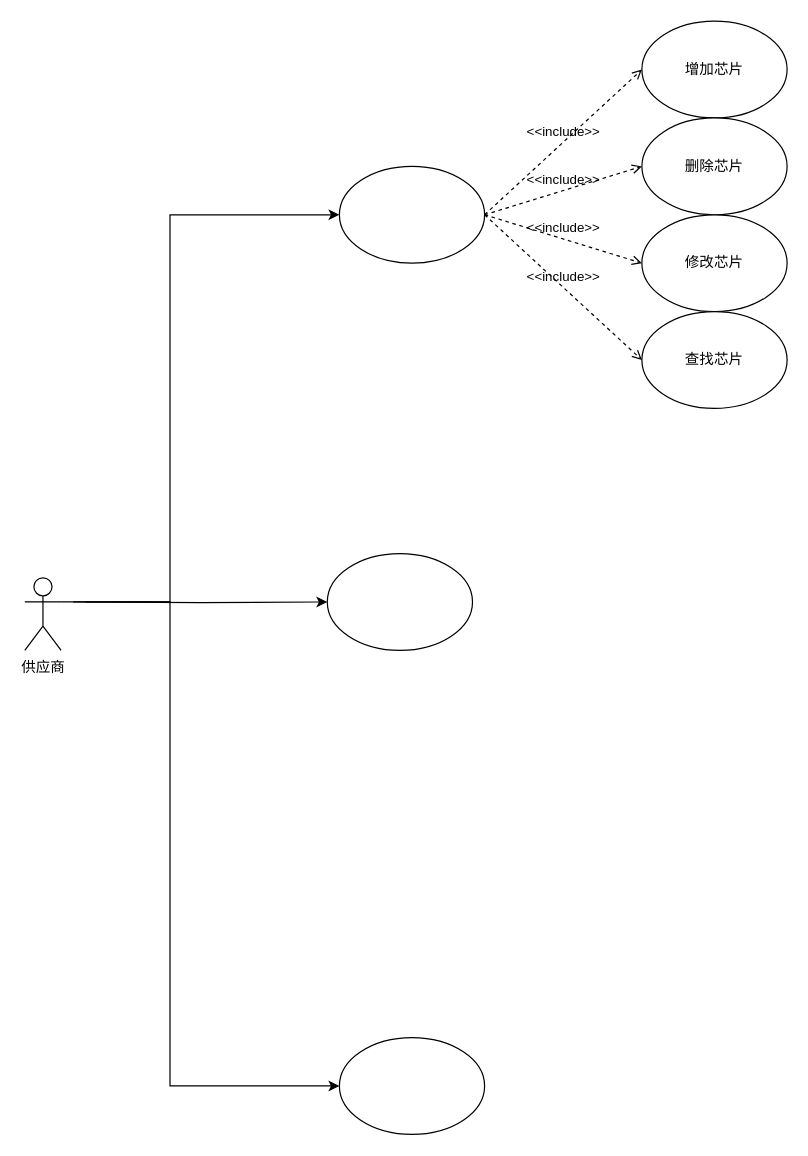
Image size: 808x1156. Some labels were removed from this diagram. Each missing label, with the box of its shape:
合同提供: (338, 1036, 485, 1134)
芯片上架: (338, 165, 485, 263)
身份验证: (326, 552, 473, 650)
